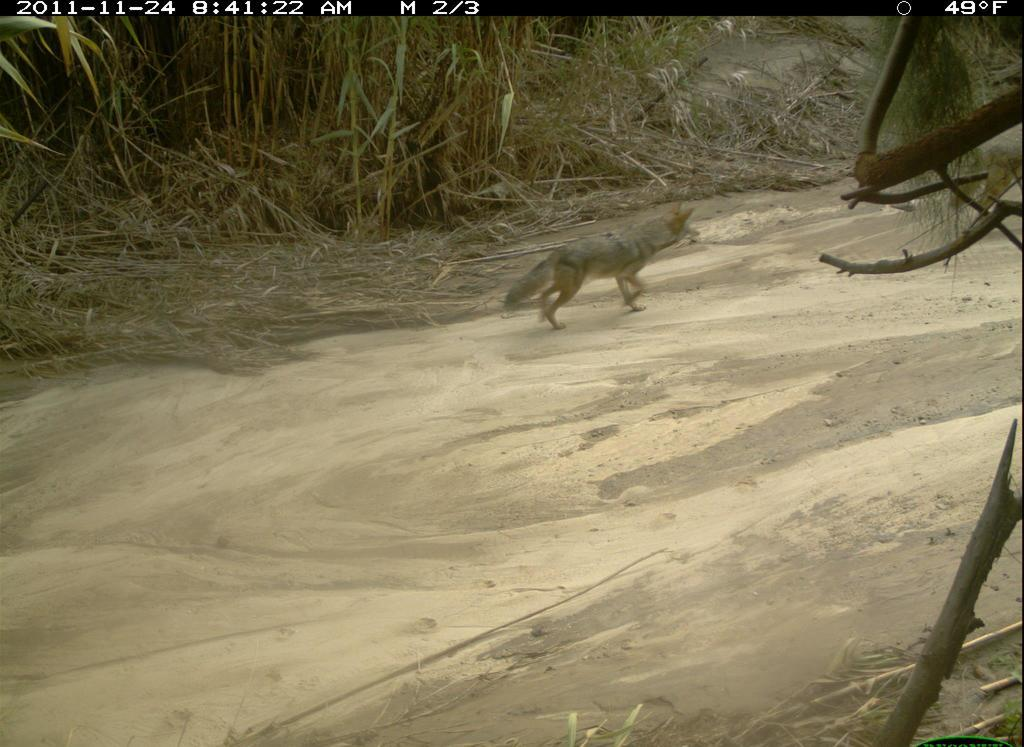coyote: (506, 203, 705, 341)
